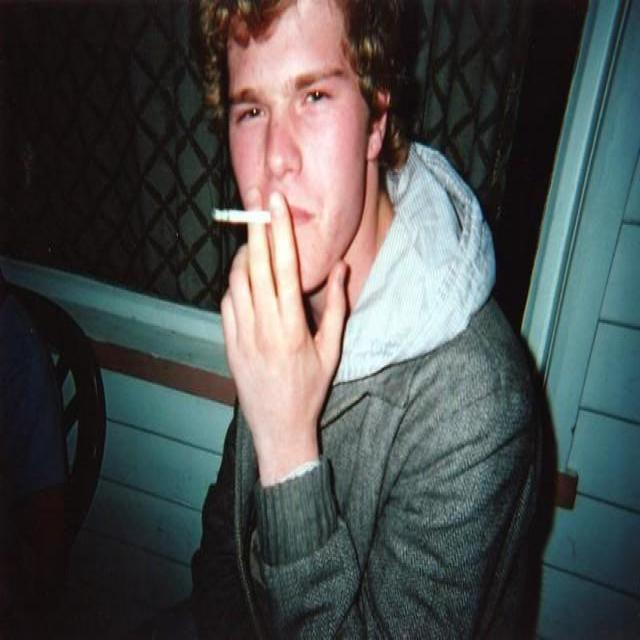Сигарета: (211, 207, 270, 223)
Тело: (209, 0, 508, 640)
